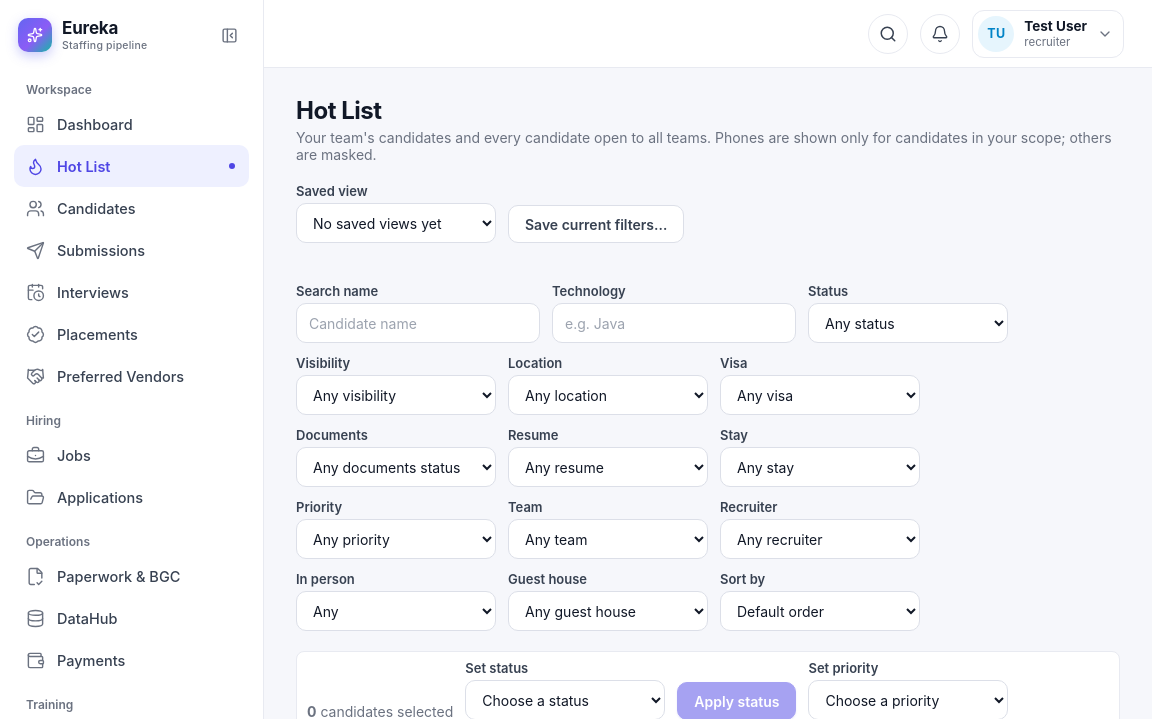
Test: sign out › returns to the sign-in screen after logout
Click the button with aria-label "Account: Test User": click(1048, 34) [972,10,1124,58]
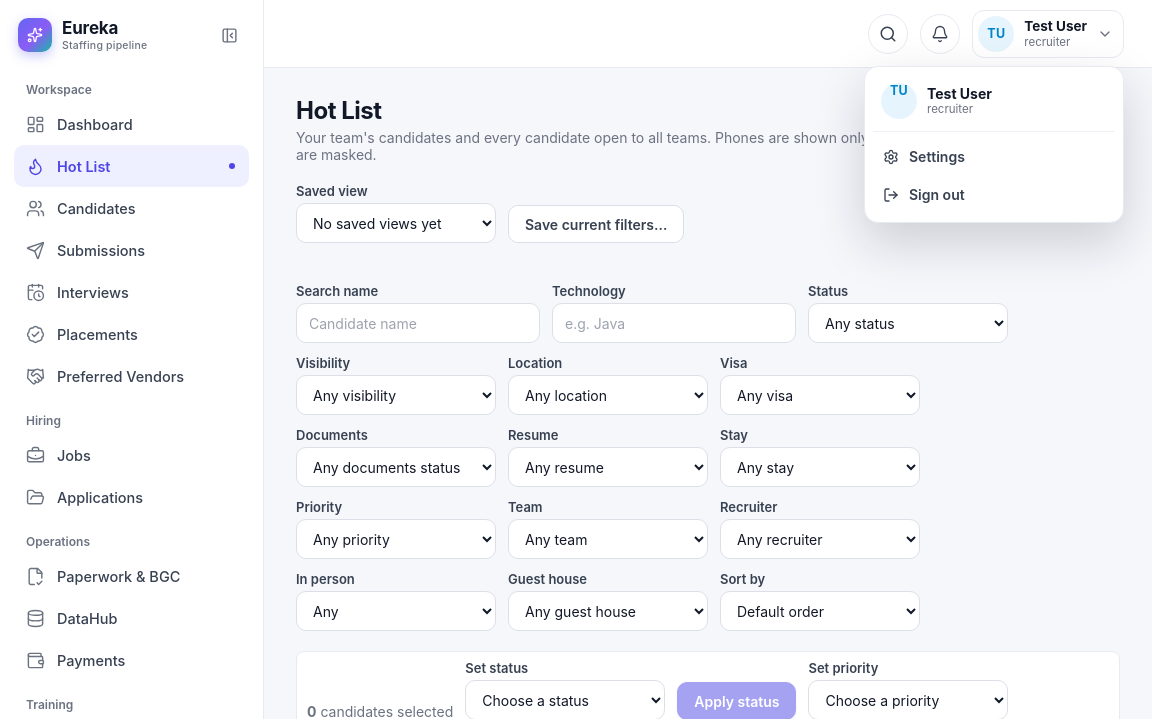
Click the button "Sign out": click(994, 194) [873,176,1115,214]
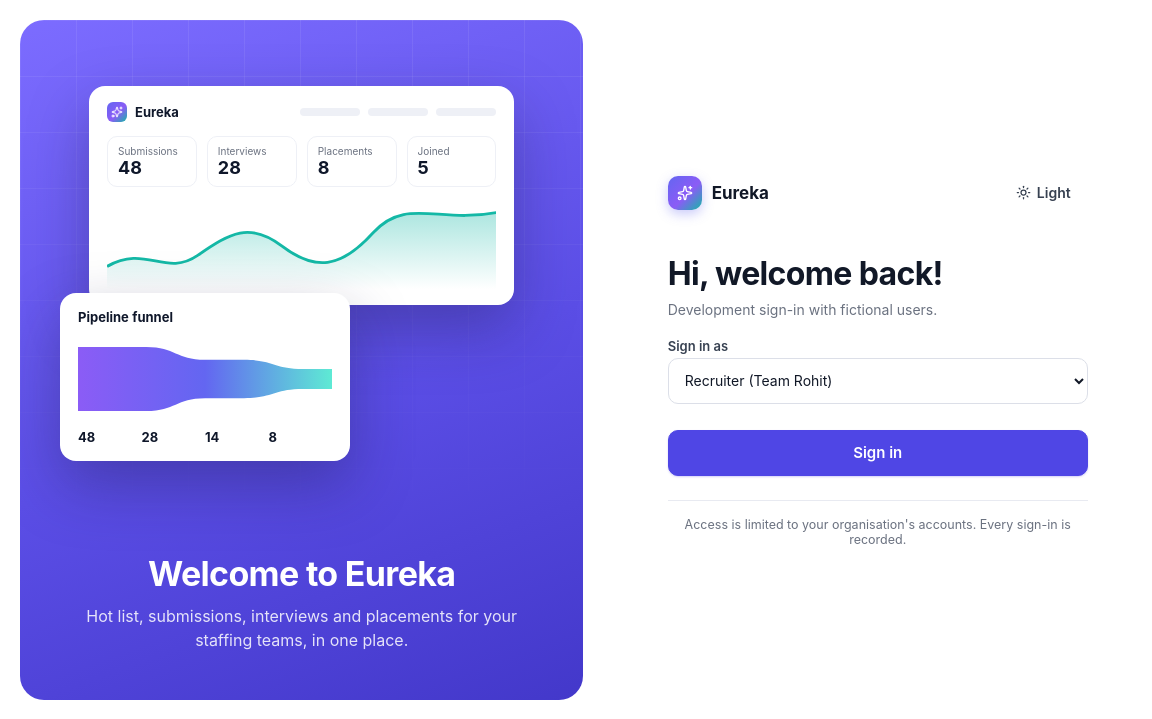
Now the heading "Hi, welcome back!" is shown, box [668,254,943,292]
